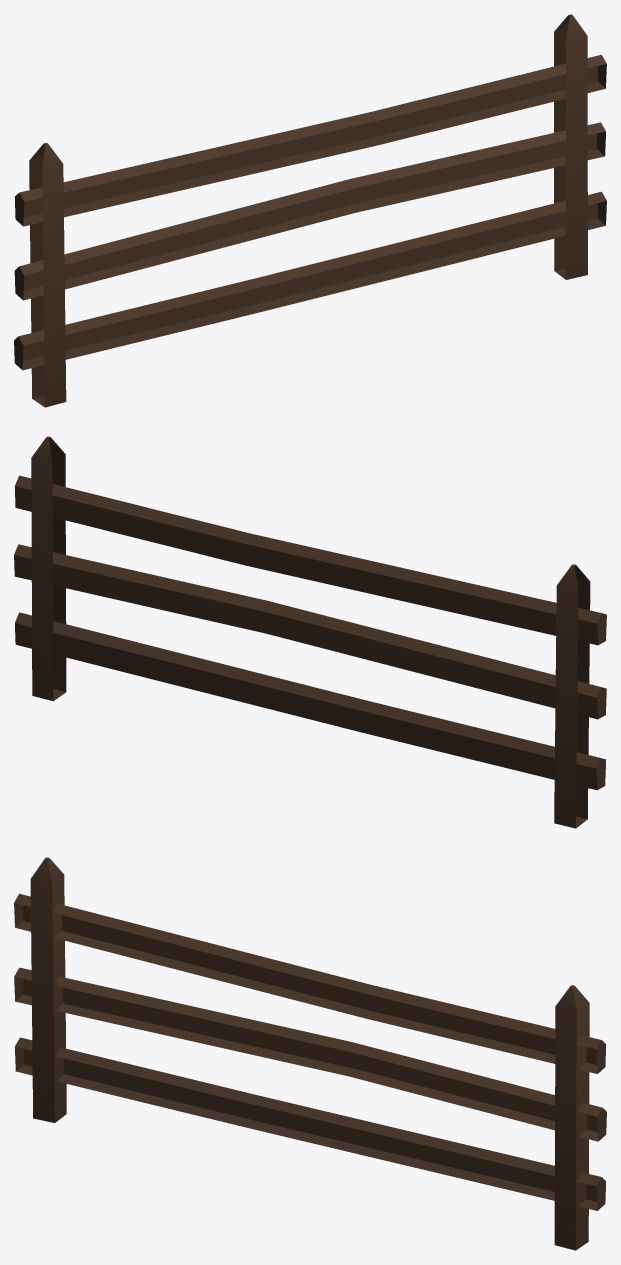
The model's file is fence.glb.
3 renders of one model, top to bottom at view 1: azimuth 30°, elevation 25°; view 2: azimuth 150°, elevation 25°; view 3: azimuth 330°, elevation 25°, orthographic.
Parts seen in each view (by area): view 1: isl_fence; view 2: isl_fence; view 3: isl_fence.
Boxes of the visible parts, x1,y1,x2,y2 form: isl_fence: [14, 14, 606, 407]; isl_fence: [14, 436, 606, 828]; isl_fence: [14, 857, 606, 1250].
Size of the model in its own units: 2.3 by 0.9707 by 0.0911.
